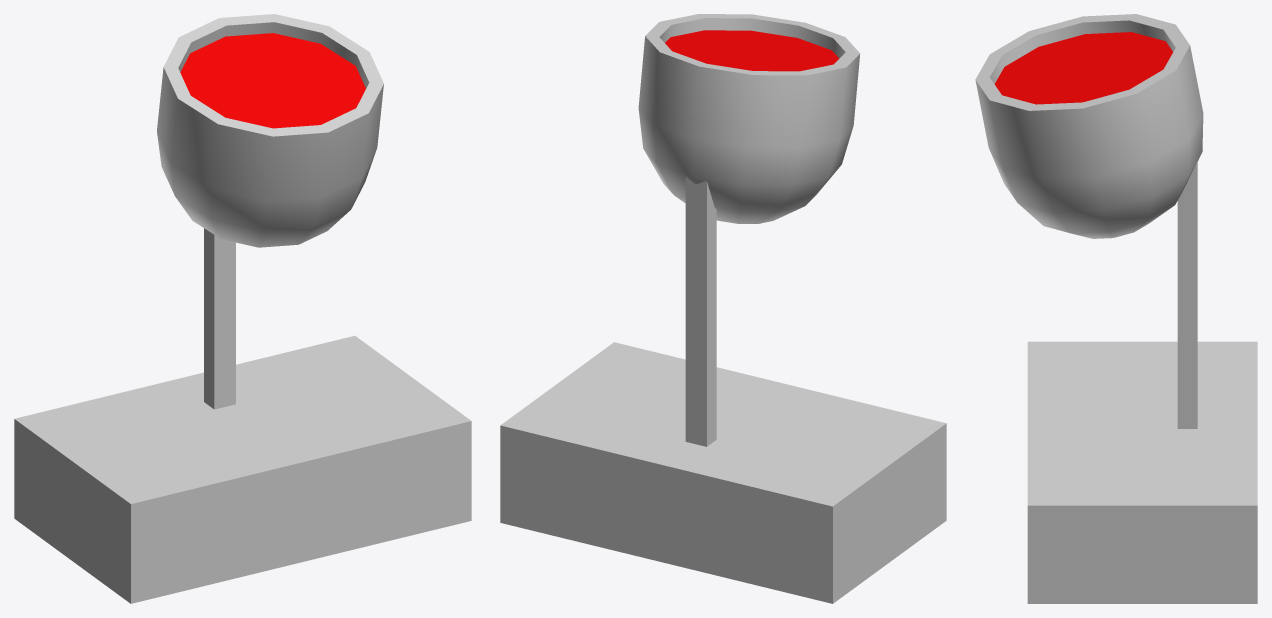
Rendered from Sign9.fbx.
The picture shows the model from 3 angles, left to right: view 1: azimuth 30°, elevation 25°; view 2: azimuth 150°, elevation 25°; view 3: azimuth 270°, elevation 25°; orthographic projection. The views are drawn at different scales.
Parts seen in each view (by area): view 1: Cube.006; view 2: Cube.006; view 3: Cube.006.
Part boxes in pixels (x1,y1,x2,y2): Cube.006: (14, 14, 471, 603); Cube.006: (500, 14, 946, 603); Cube.006: (975, 14, 1257, 603).
Bounding box in the file's own units: 13.89 × 18.85 × 10.11.
